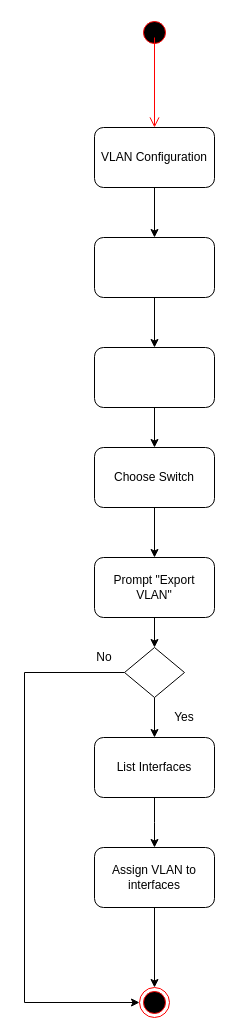
Some shapes in this 232 by 1035 pixel diagram are drawn without their labels. Each missing label, with the centre of its shape:
Create VLANs: point 154,267
List Switches: point 154,377
